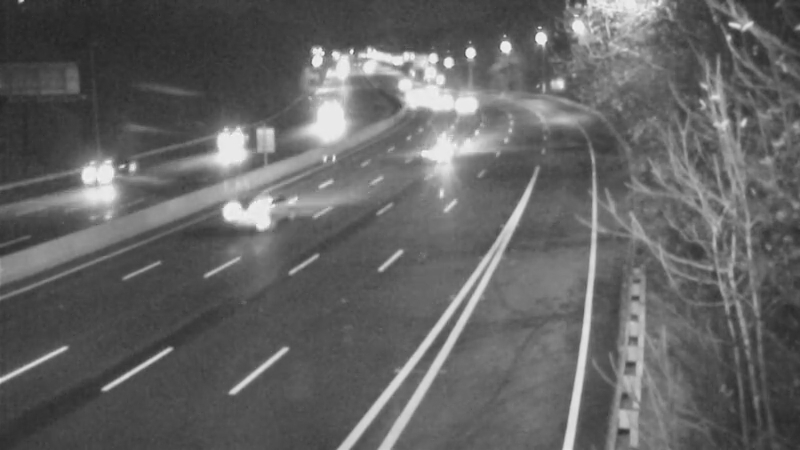vehicle: (404, 113, 484, 193), (225, 172, 305, 252), (82, 127, 162, 207), (163, 116, 243, 196), (408, 72, 458, 122), (433, 76, 483, 126), (294, 98, 344, 148)
